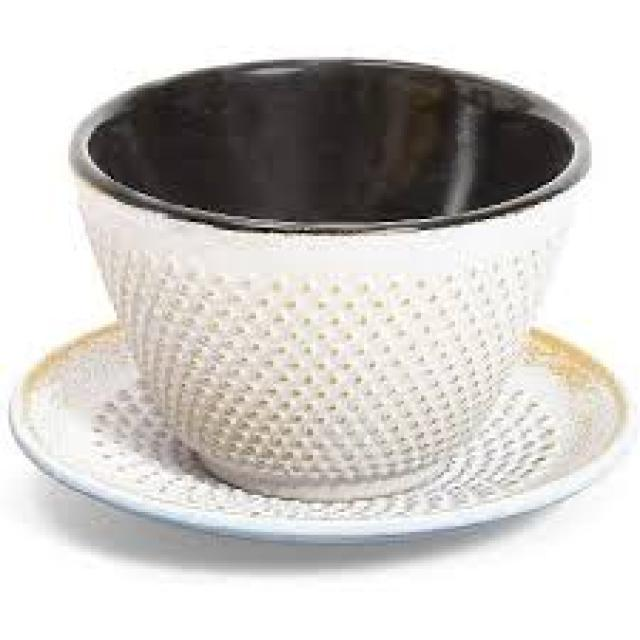taza: (52, 38, 600, 493)
